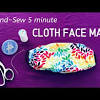cloth_mask: (26, 42, 97, 76)
